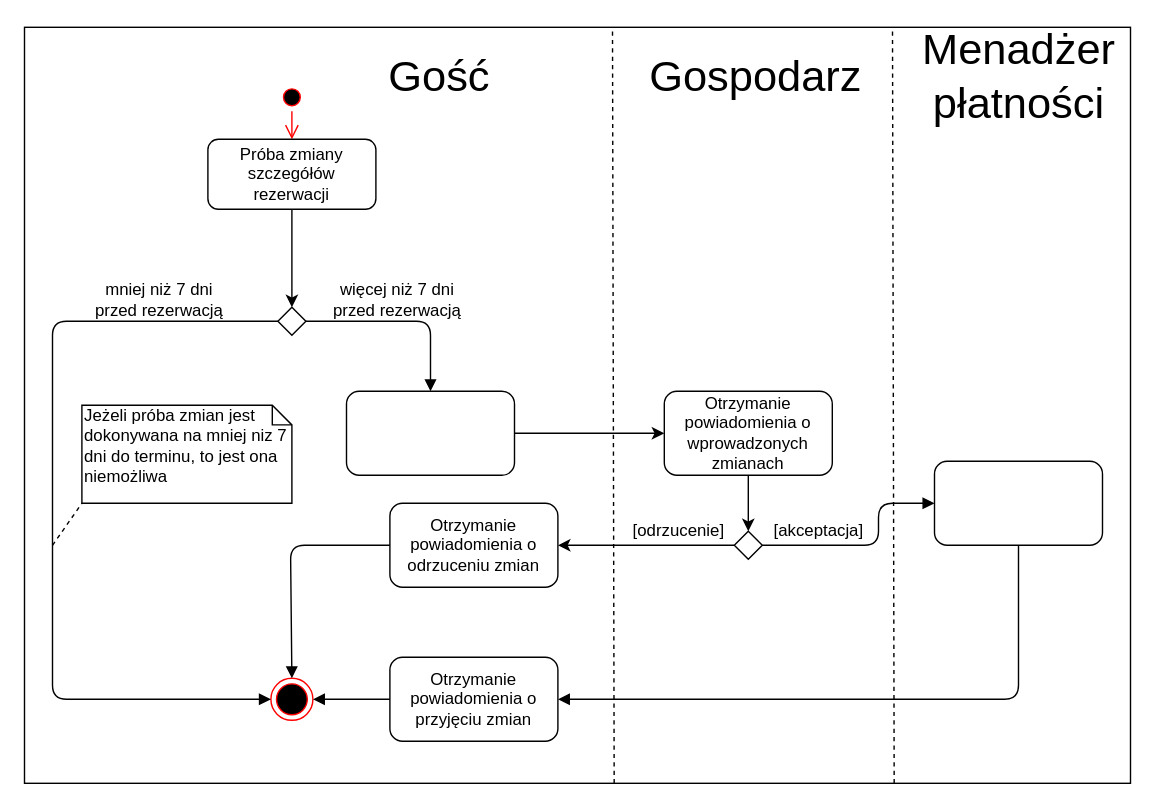
Some shapes in this 1155 by 809 pixel diagram are drawn without their labels. The shapes that lost their labels are listed below. From the top down, each one's centre as x and y in pixels, then its label:
At pixel 429 432: "Wprowadzenie żądanych zmian przez gościa".
At pixel 1017 502: "Otrzymanie dopłaty".
